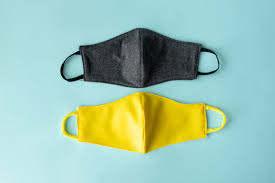cloth_mask: (59, 91, 228, 159), (60, 27, 222, 89)
